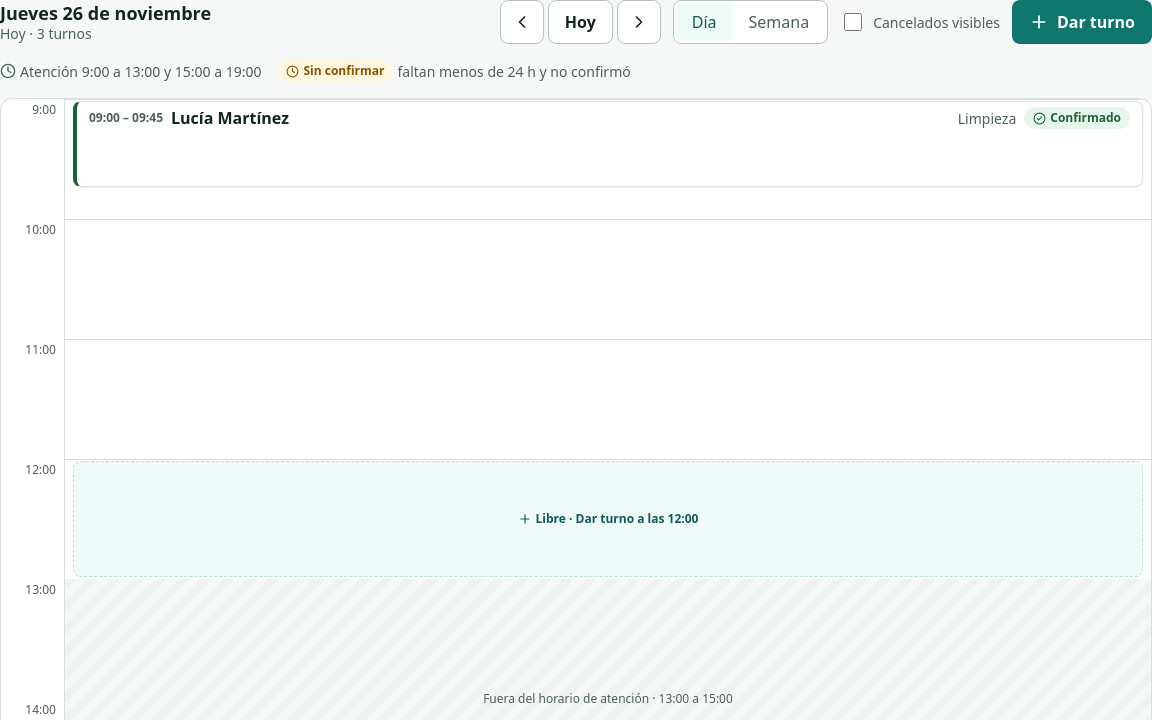
it: acciones sobre un turno › un CONFIRMADO no ofrece confirmar y un cancelado no ofrece acciones
Expected: the element "Día Semana" is shown, x1=673 y1=0 x2=828 y2=44
Click the button with aria-label "Lucía Martínez, Limpieza, Confirmado" at (126, 118), box x1=73 y1=101 x2=1143 y2=187
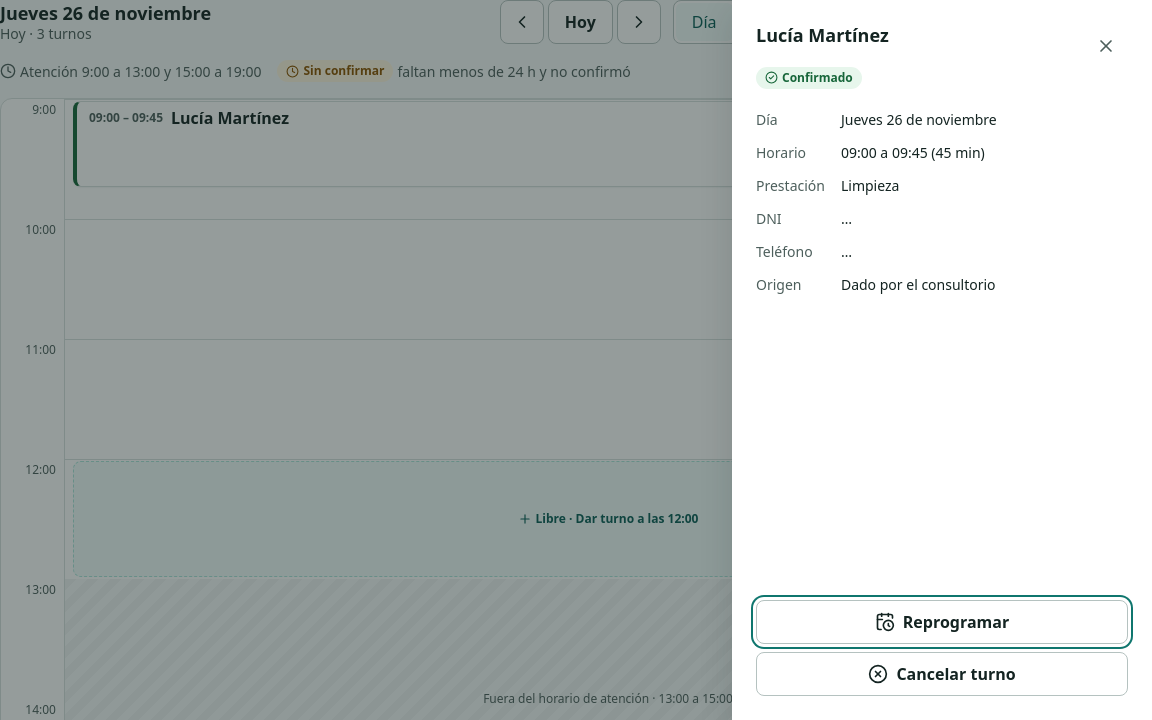
Click the button named "Cerrar" at (1106, 46), box x1=1084 y1=24 x2=1128 y2=68
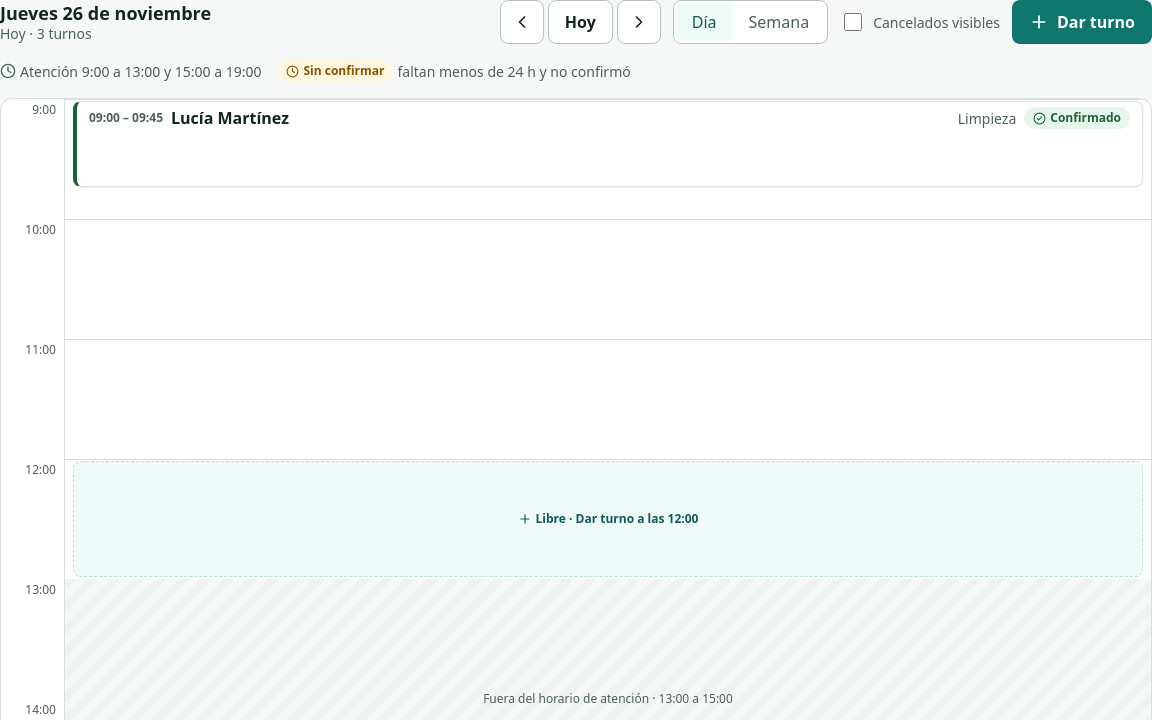
Click the checkbox labelled "Cancelados visibles" at (853, 22), box x1=844 y1=13 x2=862 y2=31
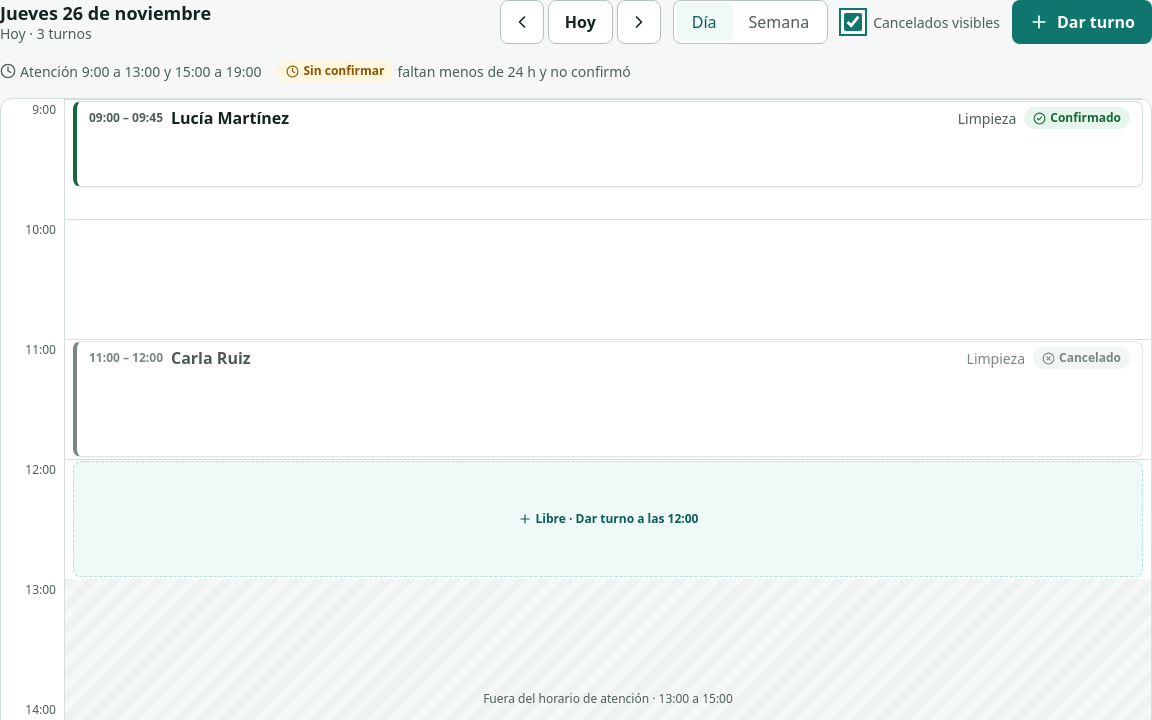
Click the button "11:00 – 12:00 Carla Ruiz Limpieza Cancelado" at (126, 358), box x1=73 y1=341 x2=1143 y2=457
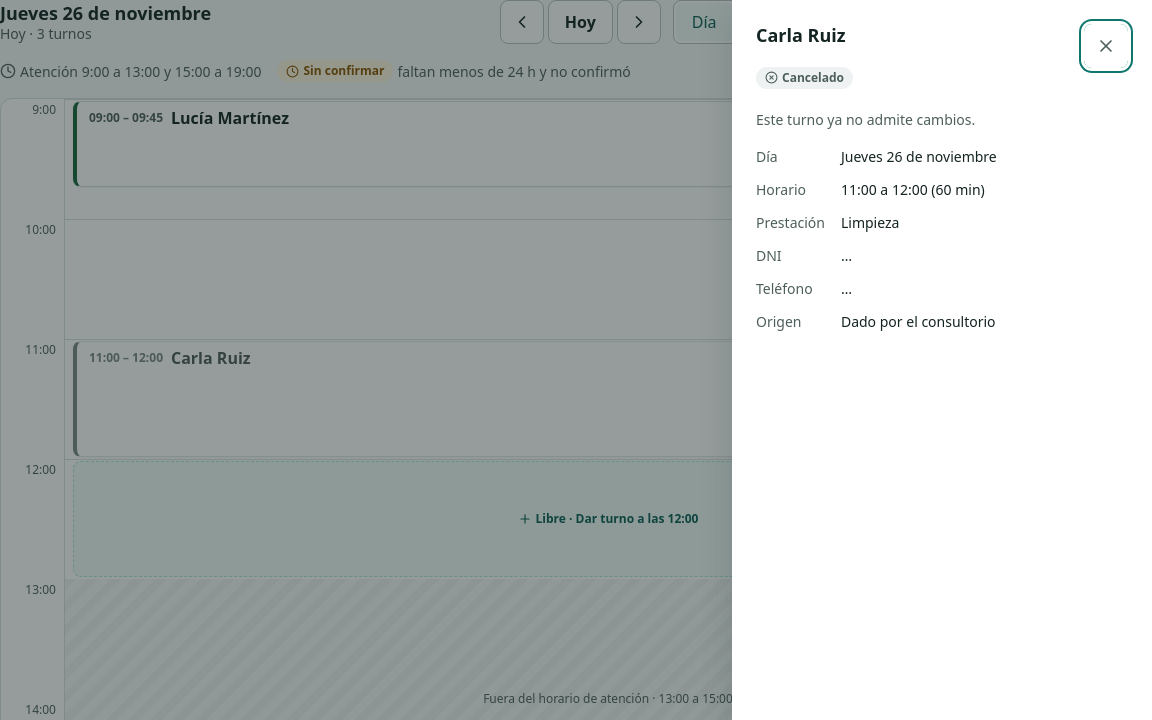
Expected: the button "Cancelar turno" is not shown
Result: the text "Este turno ya no admite cambios." is shown at x1=756 y1=110 x2=975 y2=128
